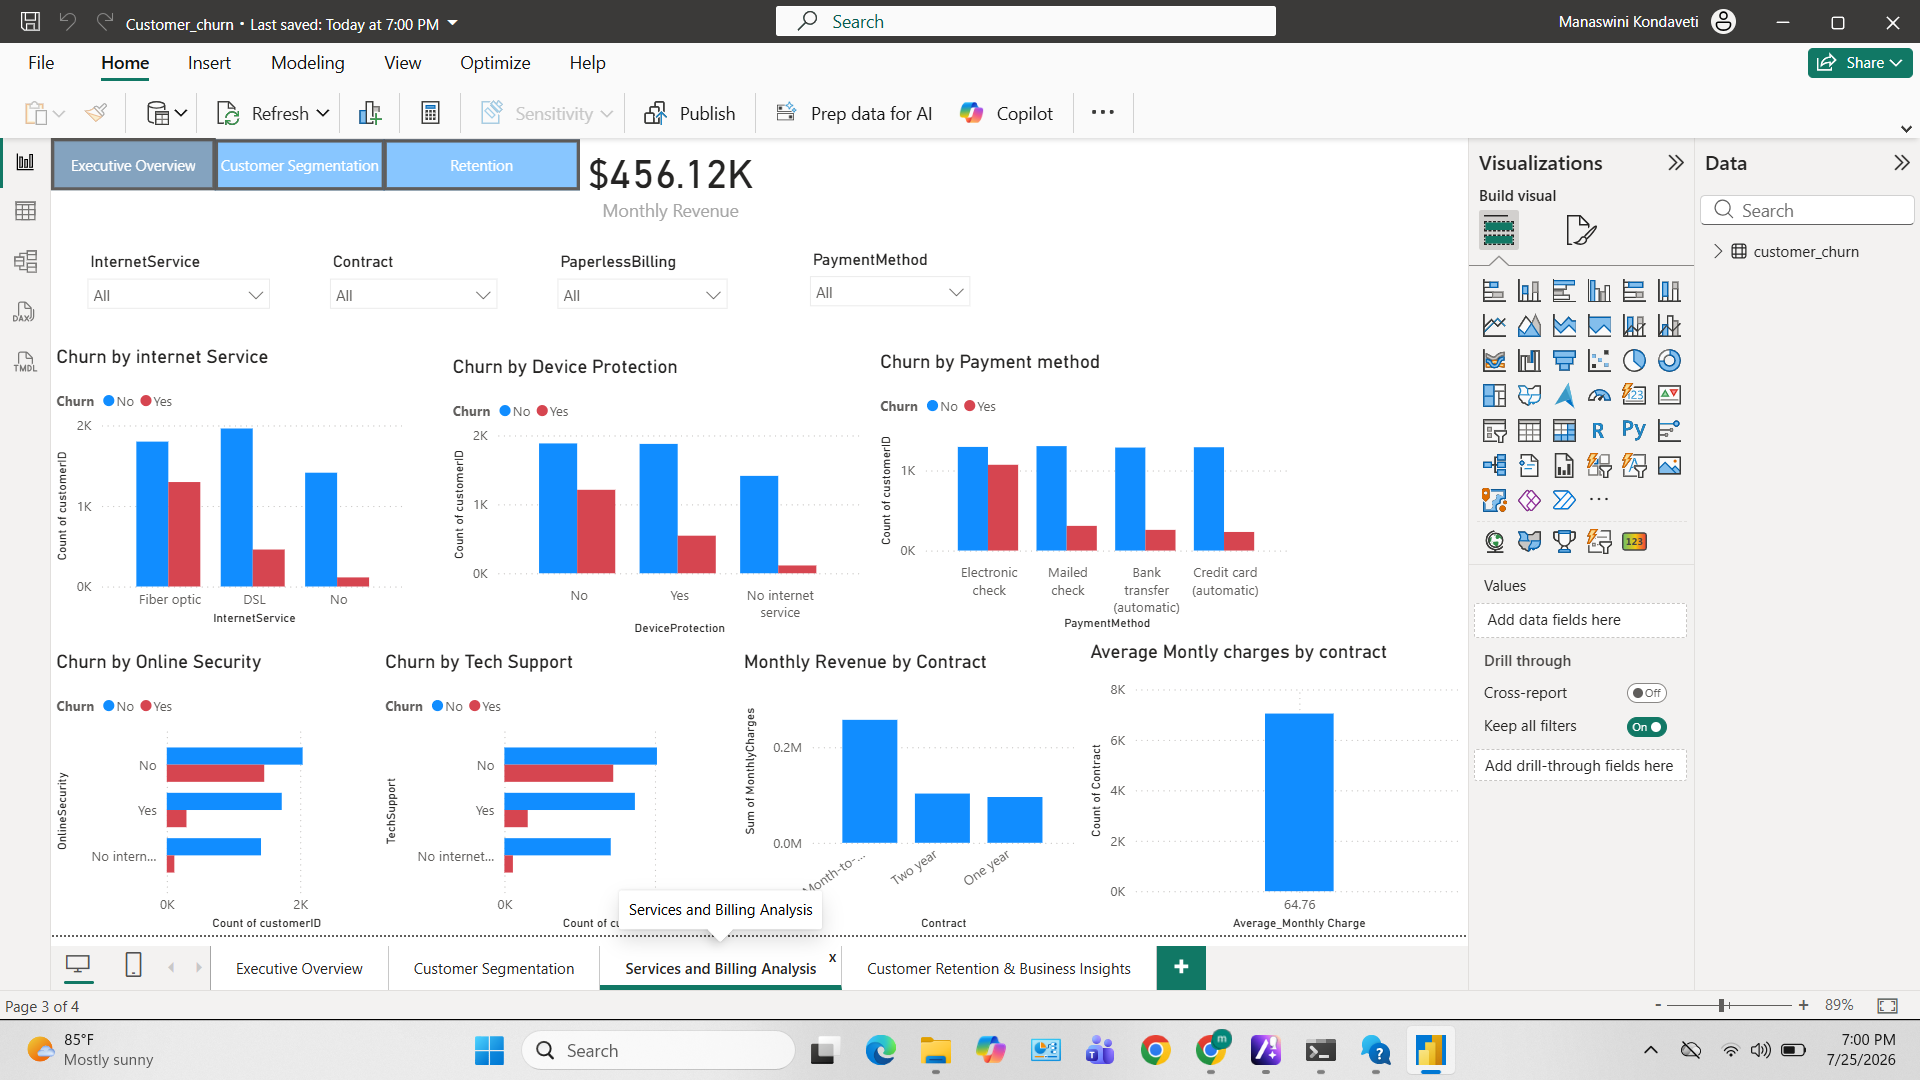

The dashboard page shown, as its layout file describes it:
{"tool":"powerbi","page":{"name":"Services and Billing Analysis","canvas":[1280,720],"ordinal":2},"visuals":[{"type":"PBI_CV_7B952816_A48F_49B4_9E13_15E3BB2C0337","fields":{"Values":["customer_churn.Monthly Revenue"]},"box":[445,0,230,87.5],"z":0},{"type":"PBI_CV_7B952816_A48F_49B4_9E13_15E3BB2C0337","fields":{"Values":["customer_churn.Revenue Lost"]},"box":[643.5,3.8,216.2,81.2],"z":1000},{"type":"PBI_CV_7B952816_A48F_49B4_9E13_15E3BB2C0337","fields":{"Values":["customer_churn.Average Tenure"]},"box":[859.7,0,227.5,85],"z":2000},{"type":"PBI_CV_7B952816_A48F_49B4_9E13_15E3BB2C0337","fields":{"Values":["customer_churn.Average Monthly Charge"]},"box":[1087.2,0,192.5,80],"z":3000},{"type":"clusteredColumnChart","title":"Churn by internet Service","fields":{"Category":["customer_churn.InternetService"],"Series":["customer_churn.Churn"],"Y":["CountNonNull(customer_churn.customerID)"]},"box":[0,187.5,326.2,257.5],"z":4000},{"type":"clusteredBarChart","title":"Churn by Online Security","fields":{"Category":["customer_churn.OnlineSecurity"],"Series":["customer_churn.Churn"],"Y":["CountNonNull(customer_churn.customerID)"]},"box":[0,462.5,297.5,257.5],"z":5000},{"type":"clusteredColumnChart","title":"Churn by Device Protection","fields":{"Category":["customer_churn.DeviceProtection"],"Series":["customer_churn.Churn"],"Y":["CountNonNull(customer_churn.customerID)"]},"box":[357.5,196.2,378.8,257.5],"z":6000},{"type":"clusteredBarChart","title":"Churn by Tech Support","fields":{"Category":["customer_churn.TechSupport"],"Series":["customer_churn.Churn"],"Y":["CountNonNull(customer_churn.customerID)"]},"box":[297.5,462.5,328.8,257.5],"z":7000},{"type":"clusteredColumnChart","title":"Churn by Payment method","fields":{"Category":["customer_churn.PaymentMethod"],"Series":["customer_churn.Churn"],"Y":["CountNonNull(customer_churn.customerID)"]},"box":[743.8,192.5,378.8,257.5],"z":8000},{"type":"clusteredColumnChart","title":"Monthly Revenue by Contract","fields":{"Category":["customer_churn.Contract"],"Y":["Sum(customer_churn.MonthlyCharges)"]},"box":[621.2,462.5,308.8,257.5],"z":9000},{"type":"slicer","fields":{"Values":["customer_churn.InternetService"]},"box":[22.5,98.8,185,70],"z":10000},{"type":"slicer","fields":{"Values":["customer_churn.Contract"]},"box":[241.2,98.8,171.2,75],"z":11000},{"type":"slicer","fields":{"Values":["customer_churn.PaperlessBilling"]},"box":[447.5,98.8,173.8,70],"z":12000},{"type":"slicer","fields":{"Values":["customer_churn.PaymentMethod"]},"box":[675,96.2,165,75],"z":13000},{"type":"clusteredColumnChart","title":"Average Montly charges by contract","fields":{"Category":["customer_churn.Average_Monthly Charge"],"Y":["CountNonNull(customer_churn.Contract)"]},"box":[933.8,453.8,346.2,266.2],"z":14000},{"type":"actionButton","title":"Customer Segmentation","box":[147.5,1.2,153.8,46.2],"z":15000},{"type":"actionButton","title":"Service and Bill","box":[300,1.2,177.5,46.2],"z":16000},{"type":"actionButton","title":"Executive Overview","box":[0,0,148.8,47.5],"z":17000}]}

Visuals, with their boxes on the page's 1280x720 design canvas (x1, y1, x2, y2). These are canvas units, not pixel positions in the 1920x1080 screenshot, which may show the page scaled, cropped or inside an application window:
PBI_CV_7B952816_A48F_49B4_9E13_15E3BB2C0337 - customer_churn.Monthly Revenue: [x1=445, y1=0, x2=675, y2=88]
PBI_CV_7B952816_A48F_49B4_9E13_15E3BB2C0337 - customer_churn.Revenue Lost: [x1=644, y1=4, x2=860, y2=85]
PBI_CV_7B952816_A48F_49B4_9E13_15E3BB2C0337 - customer_churn.Average Tenure: [x1=860, y1=0, x2=1087, y2=85]
PBI_CV_7B952816_A48F_49B4_9E13_15E3BB2C0337 - customer_churn.Average Monthly Charge: [x1=1087, y1=0, x2=1280, y2=80]
"Churn by internet Service" clusteredColumnChart: [x1=0, y1=188, x2=326, y2=445]
"Churn by Online Security" clusteredBarChart: [x1=0, y1=462, x2=298, y2=720]
"Churn by Device Protection" clusteredColumnChart: [x1=358, y1=196, x2=736, y2=454]
"Churn by Tech Support" clusteredBarChart: [x1=298, y1=462, x2=626, y2=720]
"Churn by Payment method" clusteredColumnChart: [x1=744, y1=192, x2=1123, y2=450]
"Monthly Revenue by Contract" clusteredColumnChart: [x1=621, y1=462, x2=930, y2=720]
slicer - customer_churn.InternetService: [x1=22, y1=99, x2=208, y2=169]
slicer - customer_churn.Contract: [x1=241, y1=99, x2=412, y2=174]
slicer - customer_churn.PaperlessBilling: [x1=448, y1=99, x2=621, y2=169]
slicer - customer_churn.PaymentMethod: [x1=675, y1=96, x2=840, y2=171]
"Average Montly charges by contract" clusteredColumnChart: [x1=934, y1=454, x2=1280, y2=720]
"Customer Segmentation" actionButton: [x1=148, y1=1, x2=301, y2=47]
"Service and Bill" actionButton: [x1=300, y1=1, x2=478, y2=47]
"Executive Overview" actionButton: [x1=0, y1=0, x2=149, y2=48]
